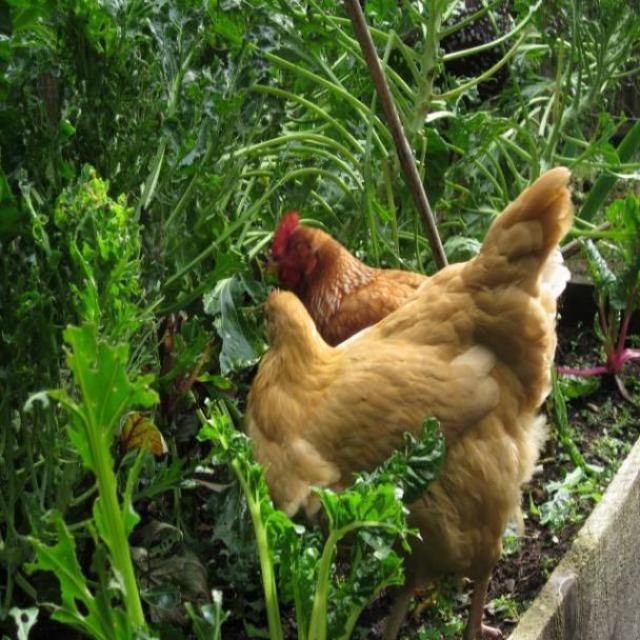Chicken: (243, 166, 574, 637), (264, 211, 425, 326)
